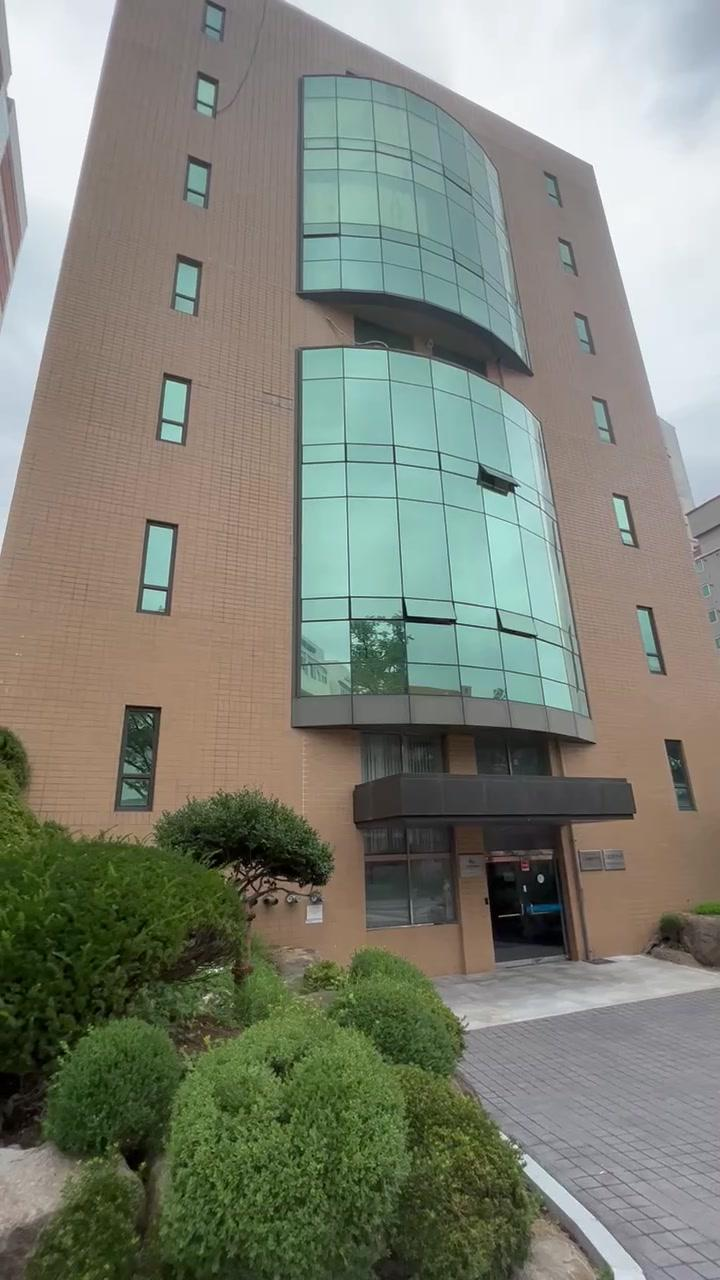building: (50, 50, 710, 790)
